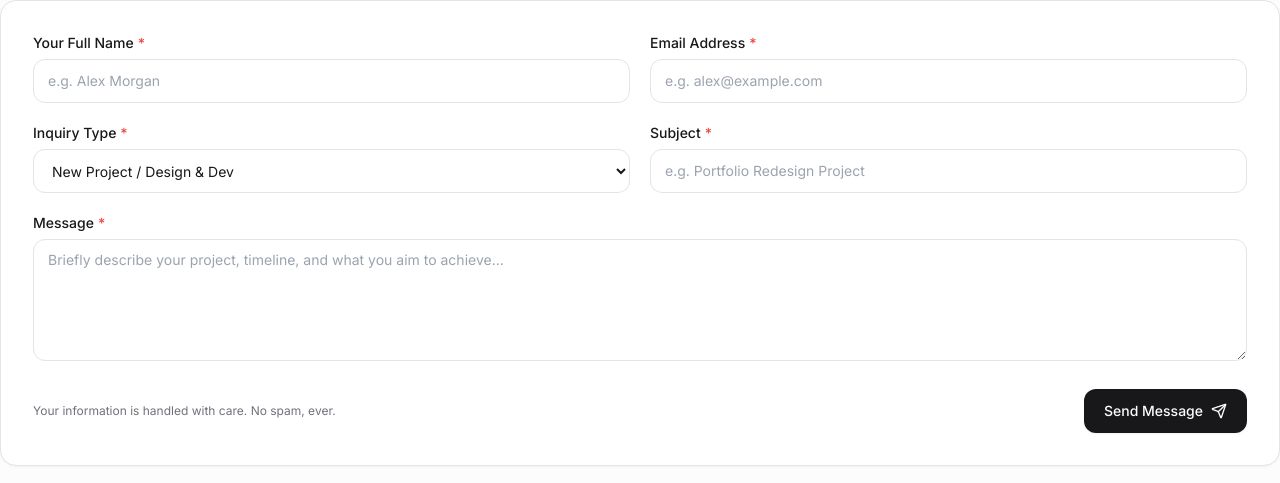
ContactForm Component › submits successfully when fields contain valid inputs
Type "Sarah Connor" into the field labelled "Your Full Name*" at (332, 81), box [33,59,630,103]
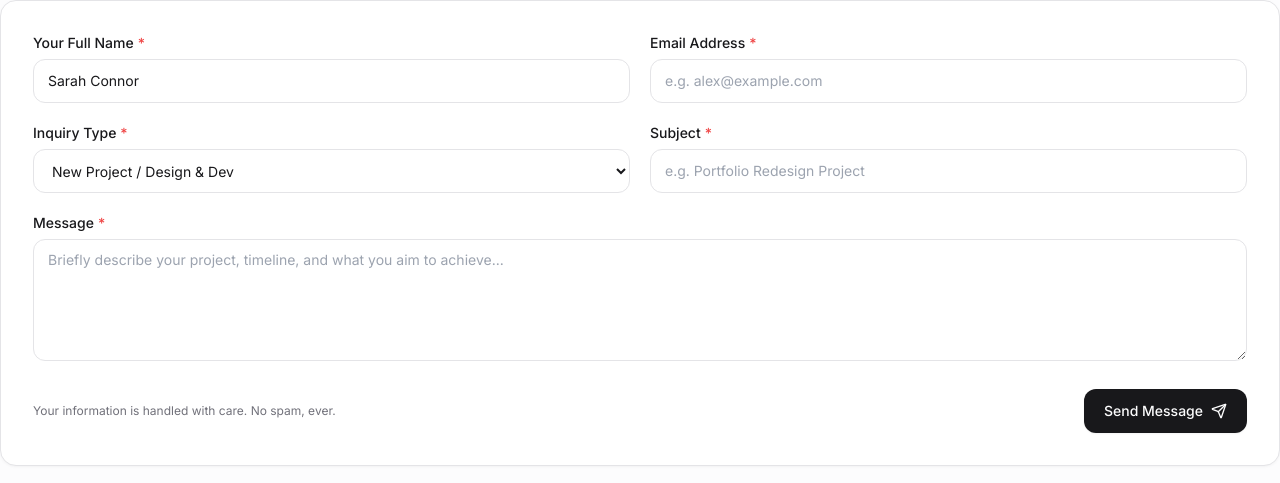
Type "sarah@example.com" into the field labelled "Email Address*" at (948, 81), box [650,59,1247,103]
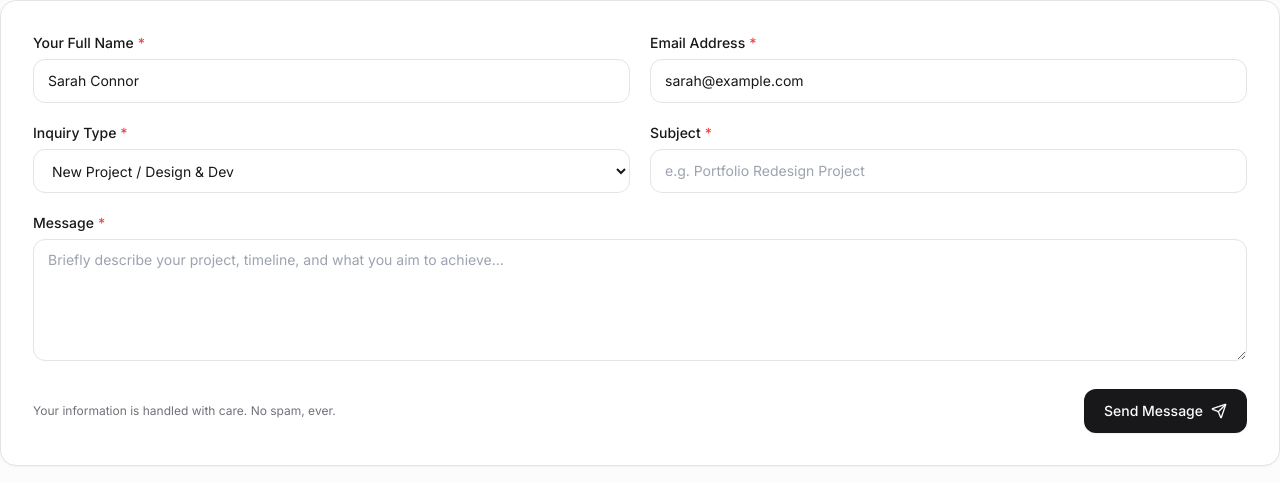
Type "Design System Inquiry" into the field labelled "Subject*" at (948, 171), box [650,149,1247,193]
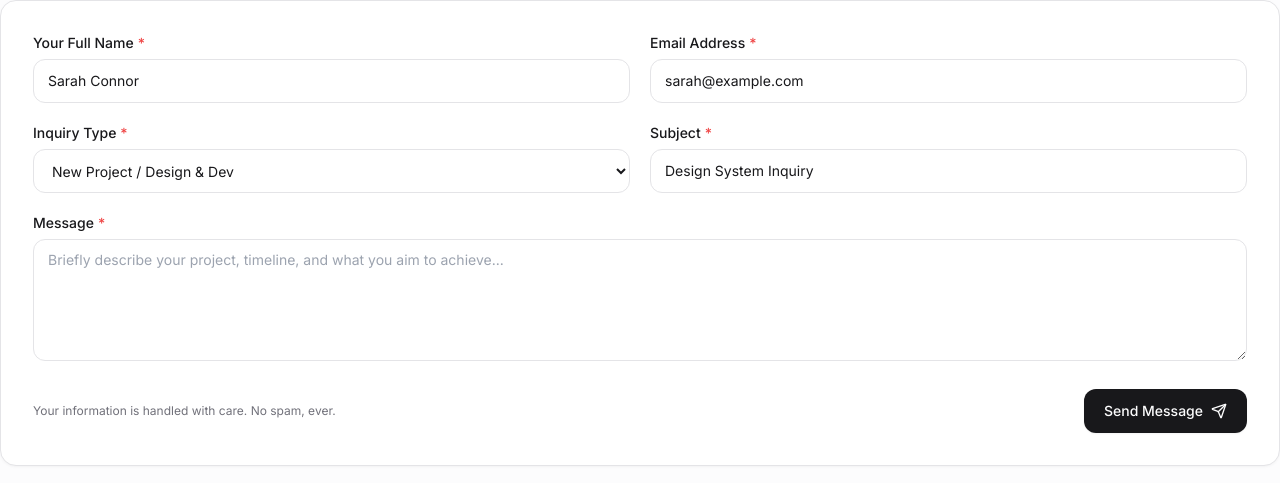
Replace the text in the text box labelled "Message*" with "We are seeking an experienced designer to build an accessible component system." at (640, 300), box [33,239,1247,361]
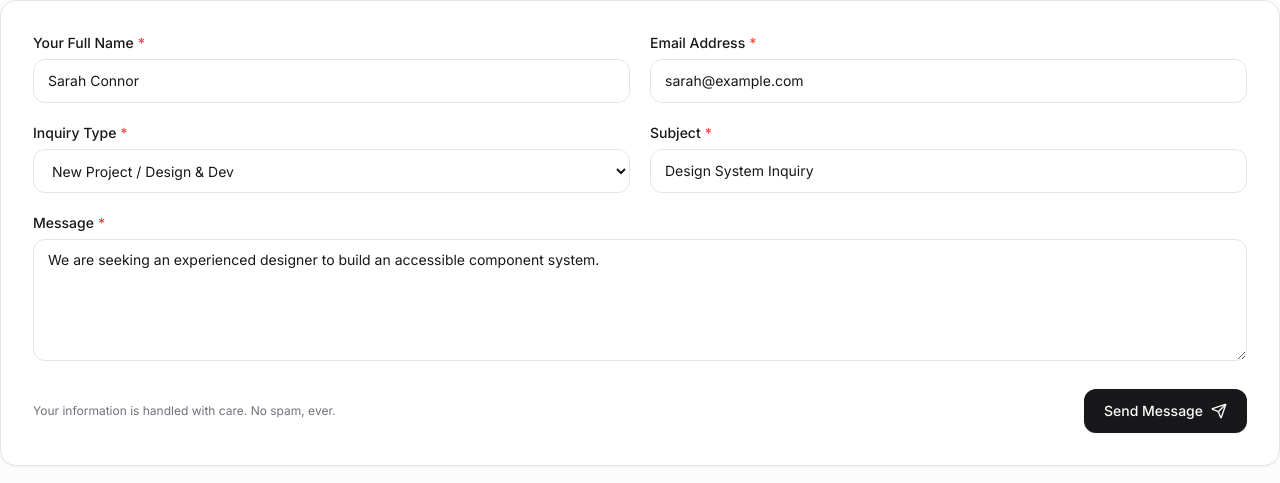
Click the button "Send Message" at (1166, 411), box [1084,389,1247,433]
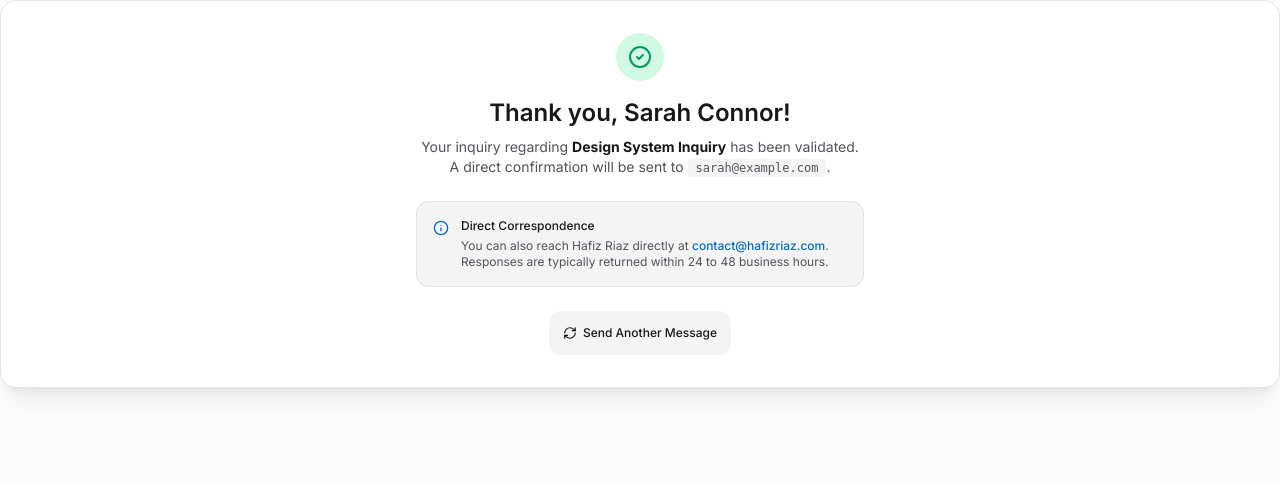
Expected: the heading "Thank you, Sarah Connor!" is shown, [489,98,791,127]
